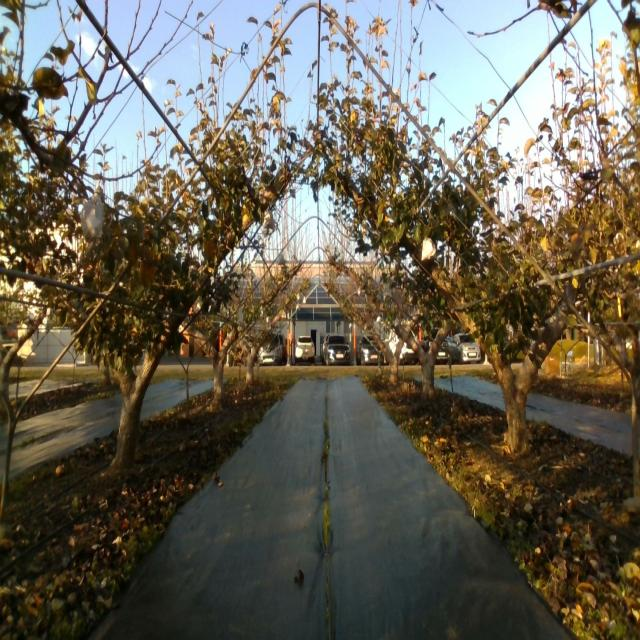pearbags: (80, 184, 103, 243), (420, 238, 436, 261), (263, 209, 275, 231)
